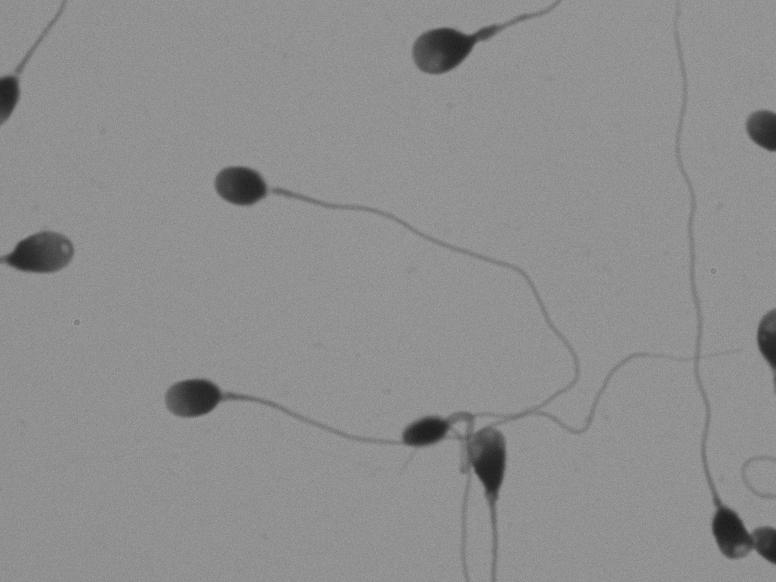Abnormal: (657, 23, 760, 567), (371, 376, 563, 569), (5, 190, 97, 323)
Normal: (182, 132, 597, 361), (124, 310, 399, 508)
